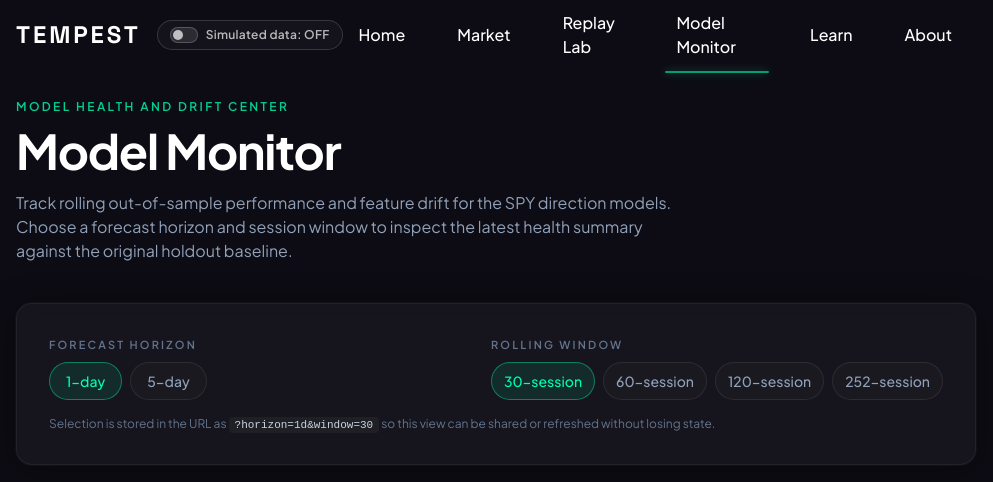
Test case: ModelMonitorPage › keeps horizon and window synchronized with the URL query string
This screenshot has width=993, height=482.
Click the radio button labelled "5-day": (169, 381) 130,362 -> 207,400
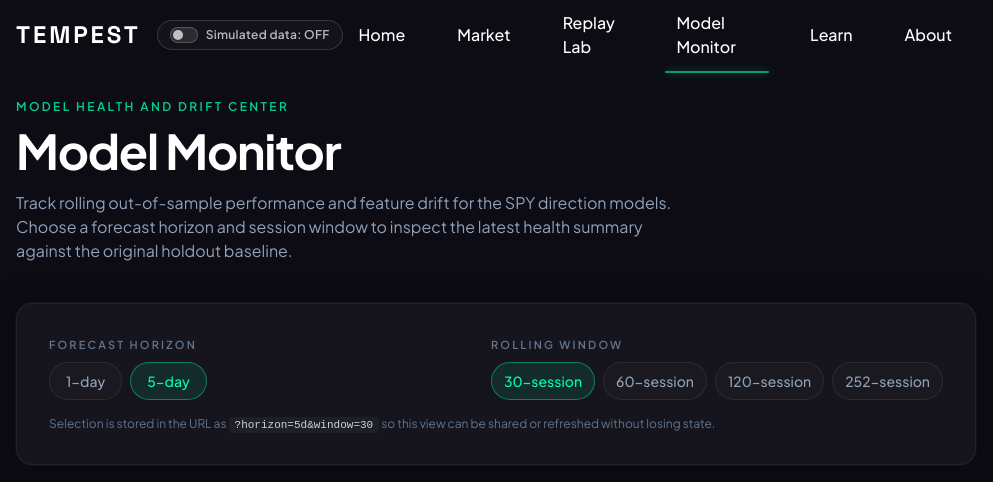
Click the radio button labelled "60-session": (655, 381) 603,362 -> 707,400
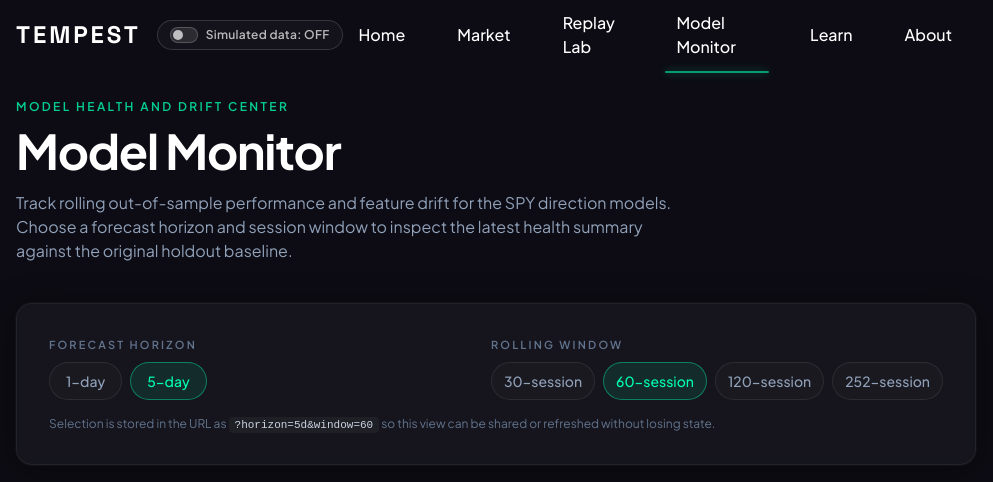
Now the text "?horizon=5d&window=60" is shown, box 228,417 -> 379,433
